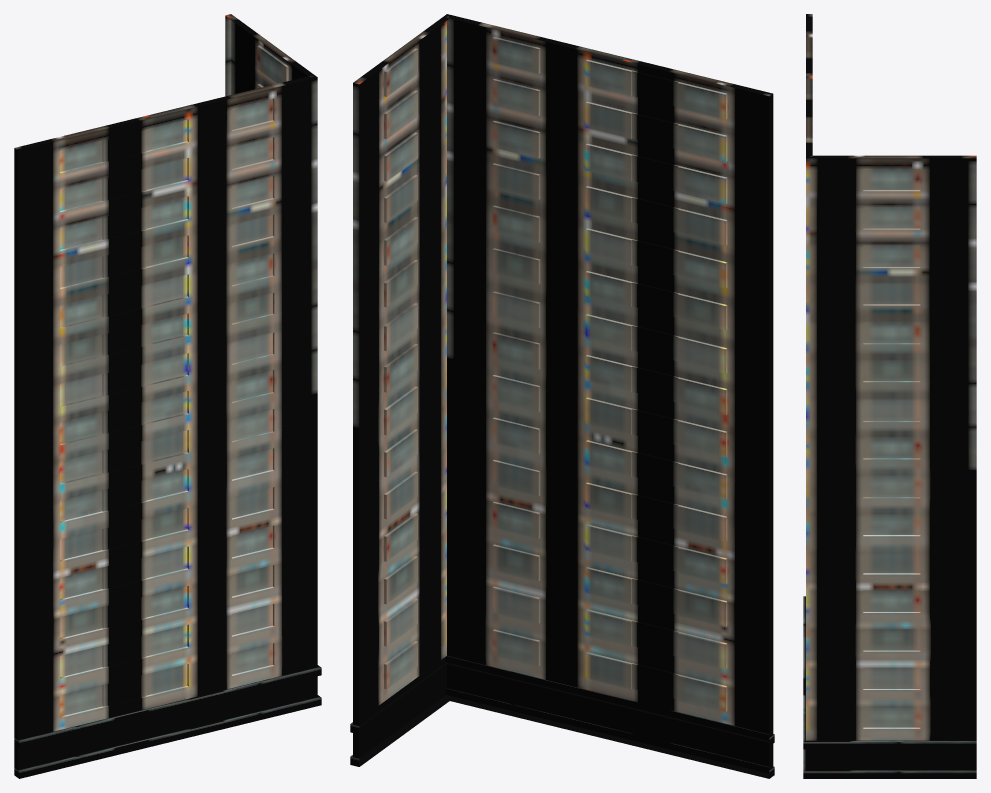
The model's file is Pagoda_Body_Tile_Corner_2500x5000_A.FBX.
3 views of the same model, side by side, from view 1: azimuth 30°, elevation 25°; view 2: azimuth 150°, elevation 25°; view 3: azimuth 270°, elevation 25° (orthographic). The views are drawn at different scales.
Parts seen in each view (by area): view 1: Geometry_Pagoda_Body_Tile_Corner_2500x5000_A_LOD00; view 2: Geometry_Pagoda_Body_Tile_Corner_2500x5000_A_LOD00; view 3: Geometry_Pagoda_Body_Tile_Corner_2500x5000_A_LOD00.
Boxes of the visible parts, <box> form: Geometry_Pagoda_Body_Tile_Corner_2500x5000_A_LOD00: <box>14,14,321,778</box>; Geometry_Pagoda_Body_Tile_Corner_2500x5000_A_LOD00: <box>350,14,774,778</box>; Geometry_Pagoda_Body_Tile_Corner_2500x5000_A_LOD00: <box>803,14,976,778</box>.
Size of what is drawn, in the model's own units: 2520 by 5000 by 1270.
